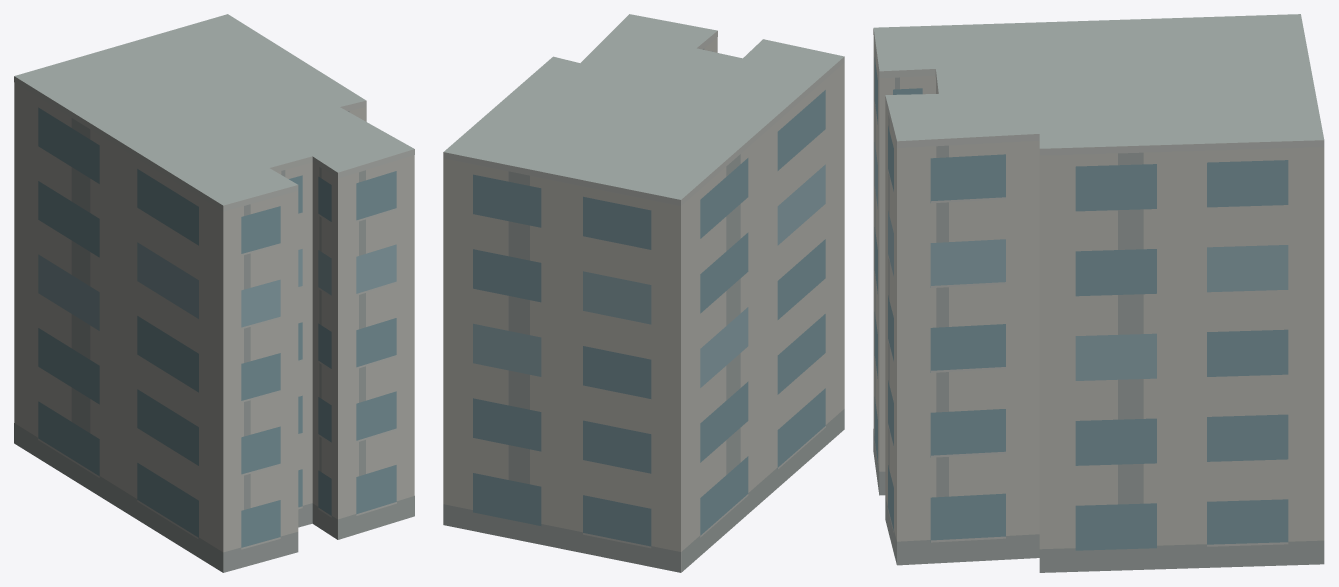
File: survey-upis-32926186.glb
The picture shows the model from 3 angles, left to right: view 1: azimuth 30°, elevation 25°; view 2: azimuth 150°, elevation 25°; view 3: azimuth 270°, elevation 25°; orthographic projection. The views are drawn at different scales.
Visible parts, largest first — view 1: survey-upis-32926186.tmp; view 2: survey-upis-32926186.tmp; view 3: survey-upis-32926186.tmp.
Part boxes in pixels (<box>): survey-upis-32926186.tmp: <box>14,14,414,572</box>; survey-upis-32926186.tmp: <box>443,14,844,572</box>; survey-upis-32926186.tmp: <box>873,14,1324,572</box>.
Bounding box in the file's own units: 10.03 × 14.7 × 14.17.
